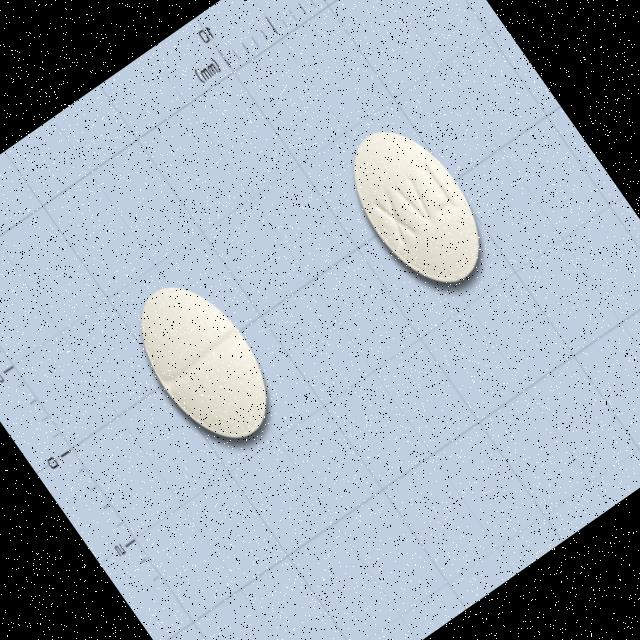Revloxin Tab: (325, 106, 505, 305), (115, 263, 292, 460)
